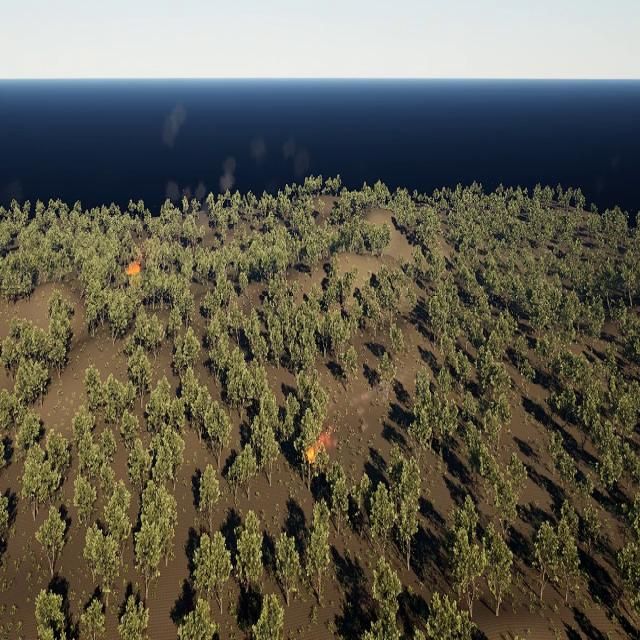fire: (128, 263, 142, 277), (308, 446, 316, 463)
smoke: (165, 131, 310, 214), (163, 98, 188, 150), (314, 429, 342, 456)
